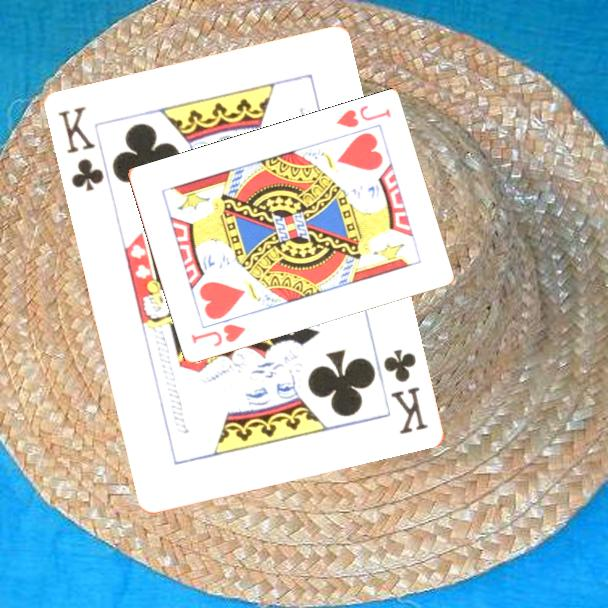c13: (55, 103, 108, 195), (380, 346, 432, 438)
h11: (187, 321, 249, 350), (333, 102, 393, 131)
